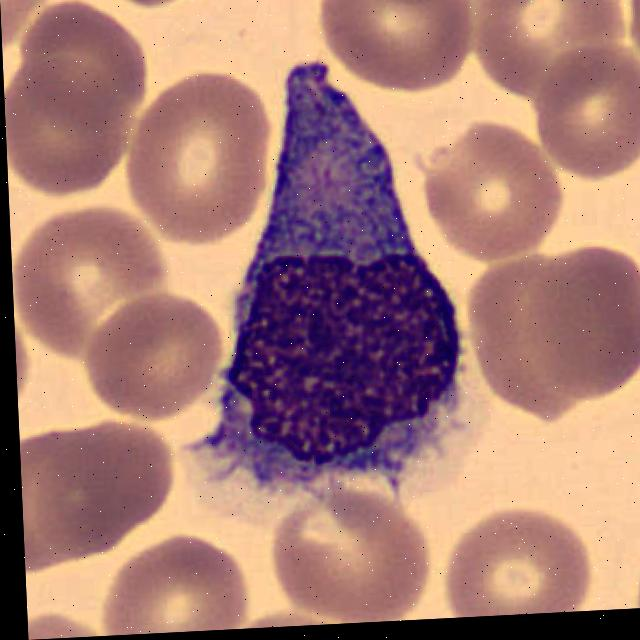monocyte: (186, 54, 443, 465)
rbc: (19, 411, 192, 593), (113, 68, 279, 255), (445, 241, 591, 441), (12, 199, 176, 372), (269, 487, 435, 624), (515, 240, 640, 421), (2, 42, 133, 195), (439, 494, 600, 618), (84, 288, 227, 426), (420, 115, 558, 257), (18, 0, 157, 137), (96, 520, 251, 636), (309, 0, 474, 107), (474, 0, 620, 103), (534, 40, 640, 171)
